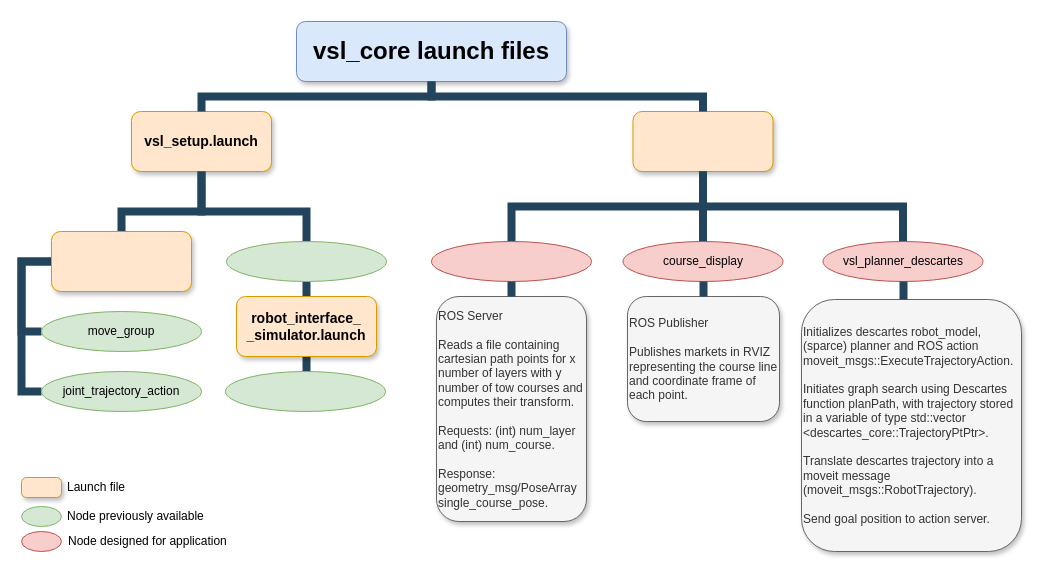
This 1045x576 diagram has some shape labels left out. The shapes that lost their labels are listed below. From the top down, each one's centre as x and y in pixels, then its label:
At point 703,142: "vsl_planner.launch".
At point 122,262: "move_group.launch".
At point 306,261: "robot_state_publisher".
At point 511,261: "pose_builder".
At point 305,391: "industrial_robot_simulator".
